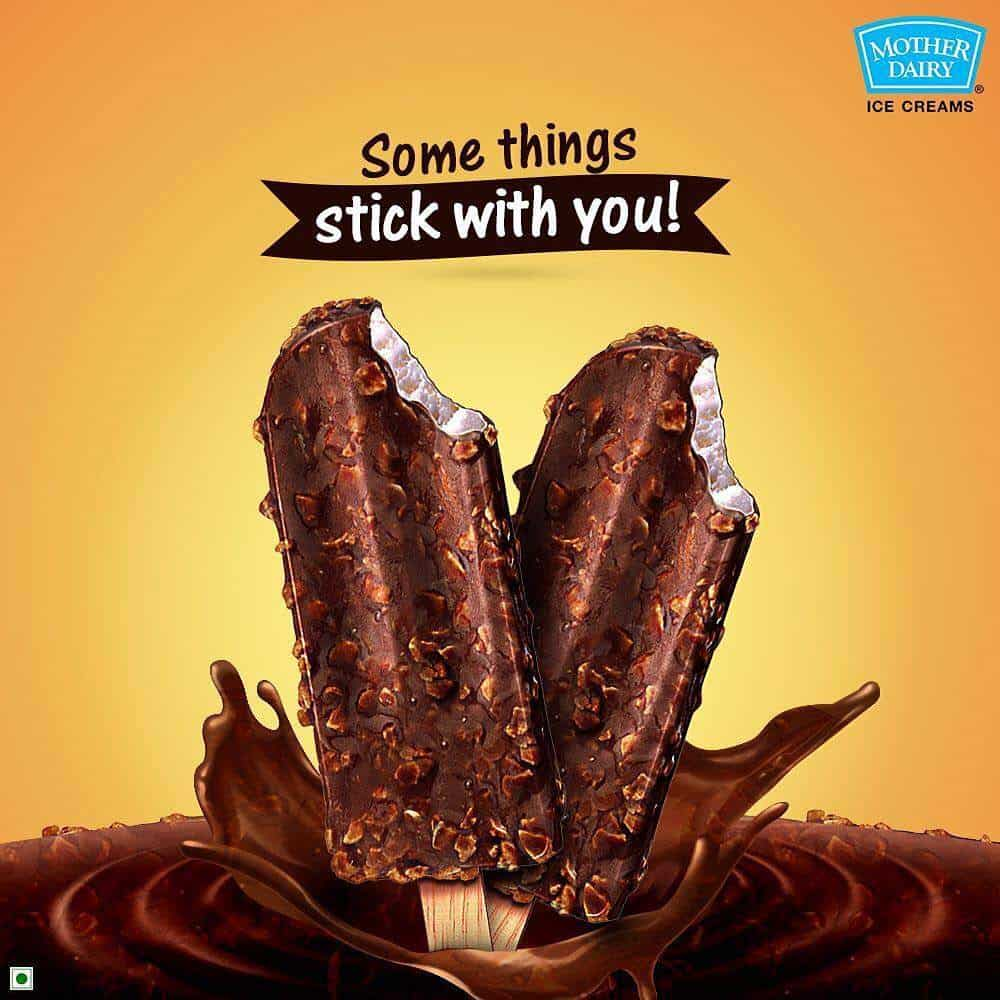Mother_Dairy: (839, 13, 998, 107)
